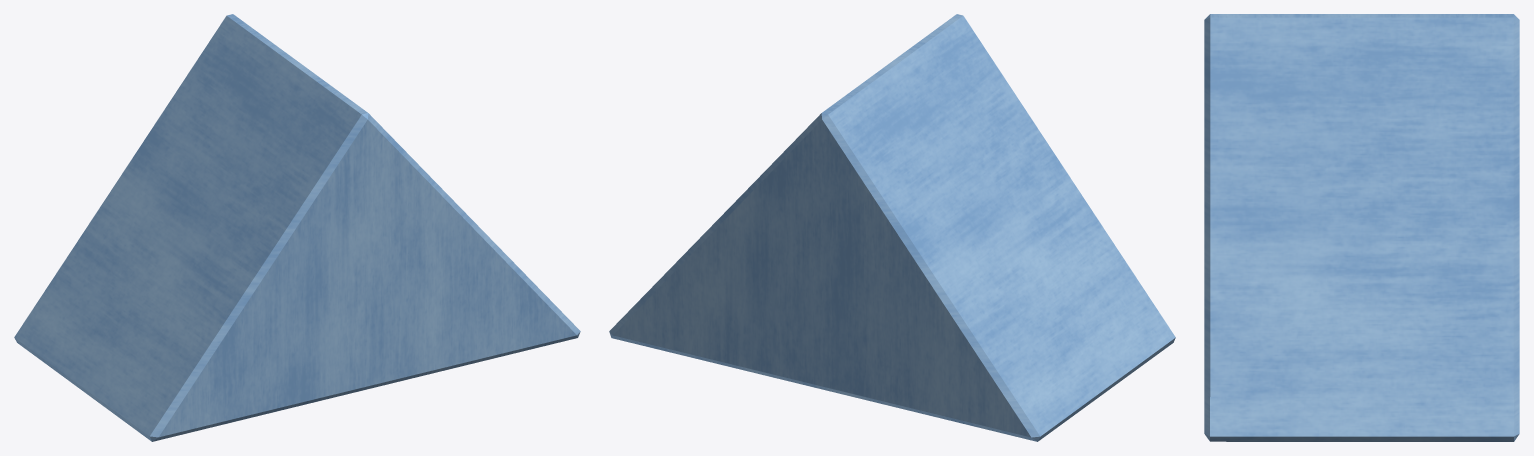
The model's file is houseblock3-1.fbx.
The picture shows the model from 3 angles, left to right: view 1: azimuth 30°, elevation 25°; view 2: azimuth 150°, elevation 25°; view 3: azimuth 270°, elevation 25°; orthographic projection. The views are drawn at different scales.
Parts seen in each view (by area): view 1: houseblock3; view 2: houseblock3; view 3: houseblock3.
Part boxes in pixels (x1,y1,x2,y2): houseblock3: (14, 14, 580, 441); houseblock3: (609, 14, 1175, 441); houseblock3: (1204, 14, 1519, 441).
Bounding box in the file's own units: 1.74 × 1.07 × 0.9853.
